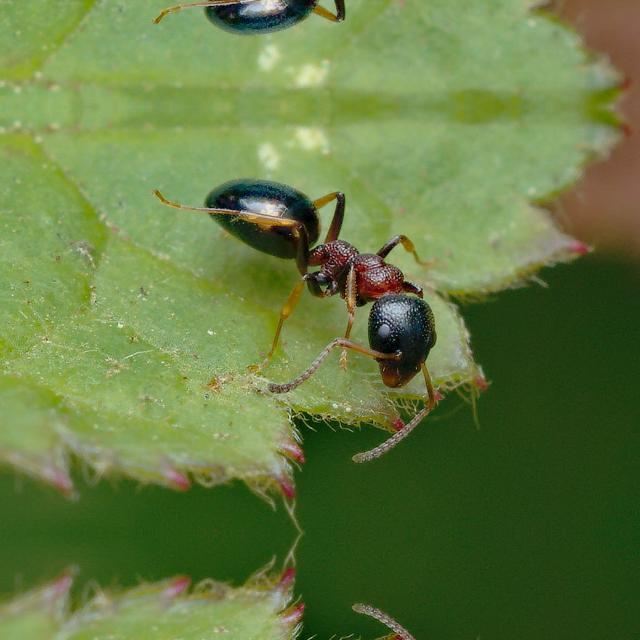Dolichoderus: (172, 154, 500, 412), (170, 0, 500, 58)
